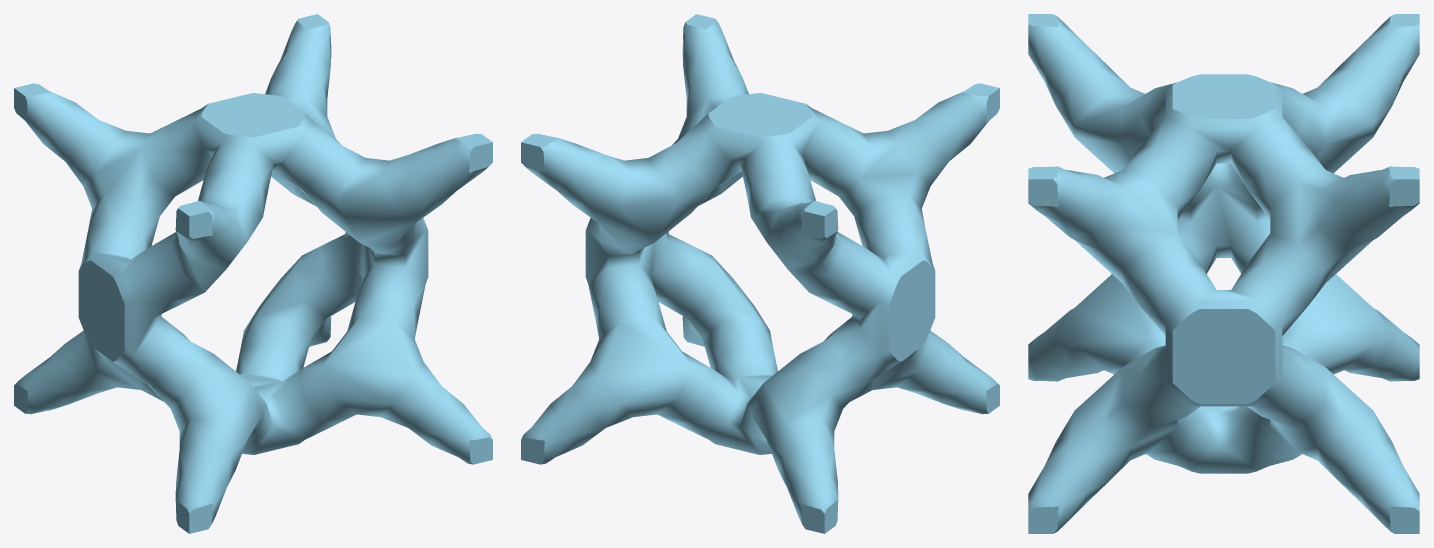
File: Variation3.glb
The picture shows the model from 3 angles, left to right: view 1: azimuth 30°, elevation 25°; view 2: azimuth 150°, elevation 25°; view 3: azimuth 270°, elevation 25°; orthographic projection. The views are drawn at different scales.
Parts seen in each view (by area): view 1: Mesh_0.016; view 2: Mesh_0.016; view 3: Mesh_0.016.
Part boxes in pixels (x1,y1,x2,y2): Mesh_0.016: [14, 14, 492, 533]; Mesh_0.016: [521, 14, 999, 533]; Mesh_0.016: [1028, 14, 1419, 533].
Size of the model in its own units: 1 by 1 by 1.
